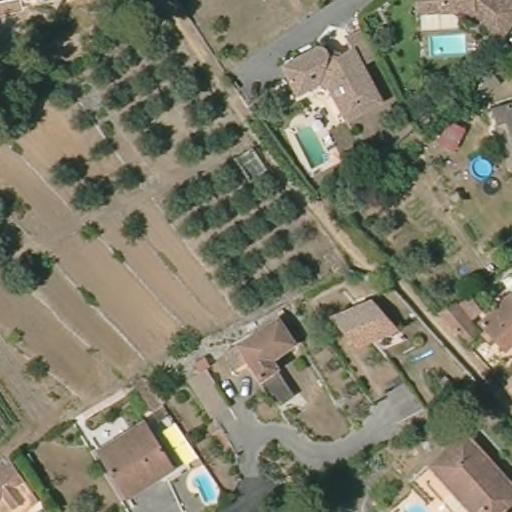pool: (285, 118, 332, 170), (425, 30, 473, 61), (186, 466, 225, 503), (463, 151, 498, 180)
